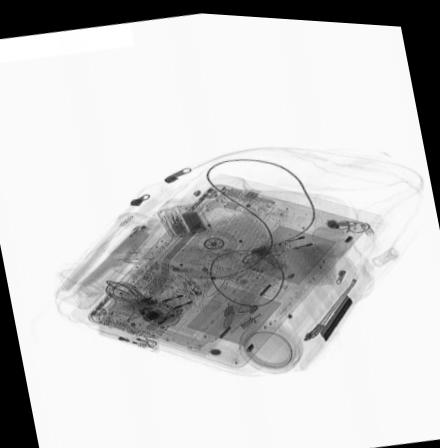Lighter: (110, 221, 151, 253)
